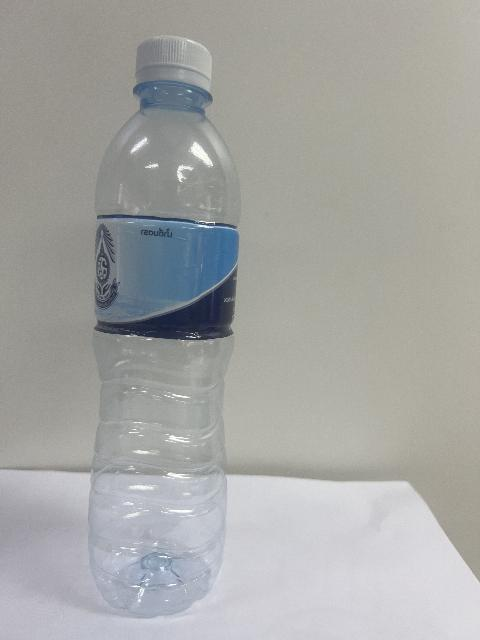bottle: (89, 37, 238, 616)
